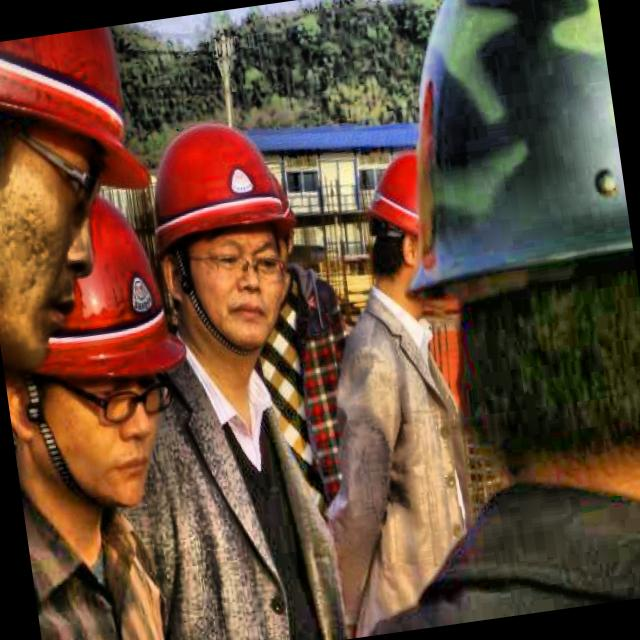helmet: (363, 0, 640, 538), (0, 172, 196, 534), (0, 31, 174, 422), (136, 106, 320, 372), (346, 136, 482, 312)
